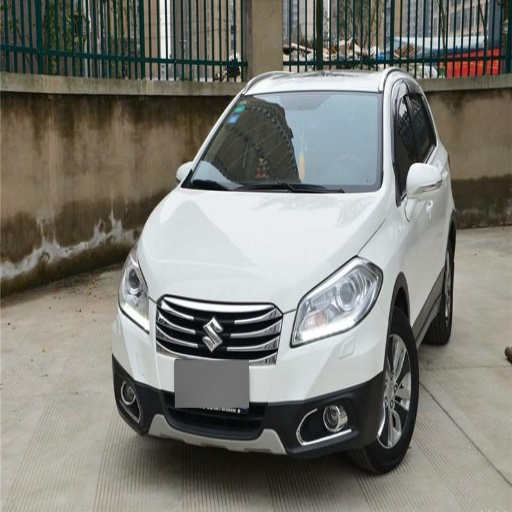front_bumper: (112, 291, 388, 457)
front_glass: (182, 90, 383, 191)
front_left_door: (387, 79, 435, 320)
front_right_light: (119, 257, 149, 328)
